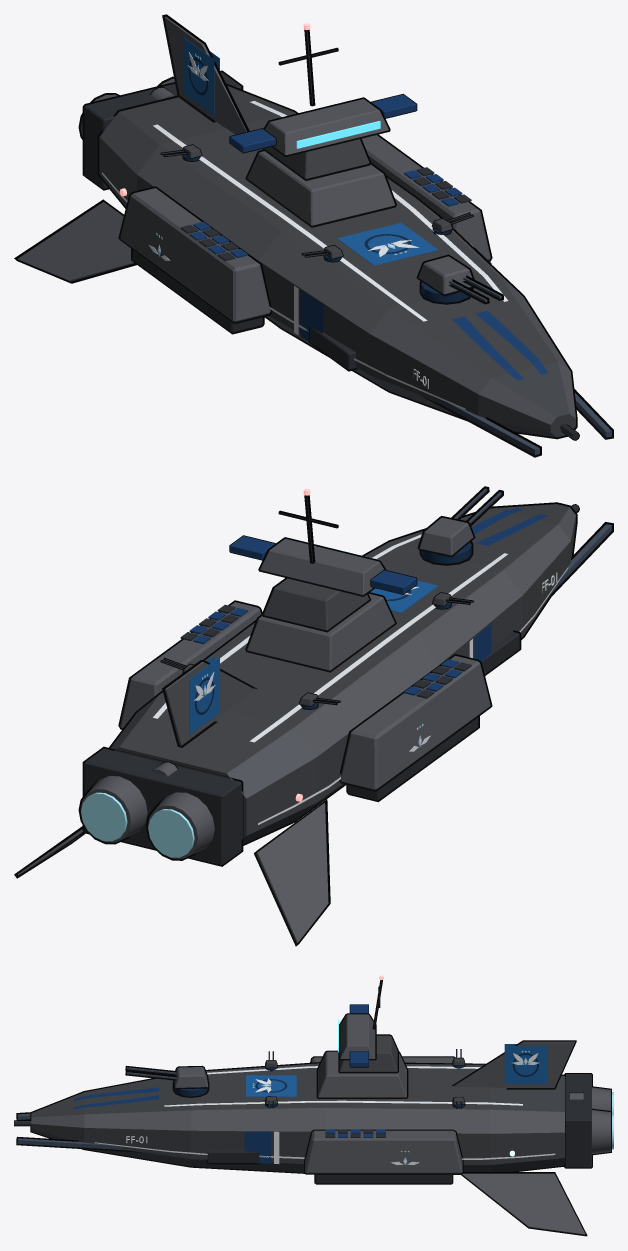
The model's file is Frigate_Warship.fbx.
The picture shows the model from 3 angles, top to bottom: view 1: azimuth 30°, elevation 25°; view 2: azimuth 150°, elevation 25°; view 3: azimuth 270°, elevation 25°; orthographic projection. The views are drawn at different scales.
Parts seen in each view (by area): view 1: Hull, Sponson-1, Bridge_A, FinV-1, Bridge_C, Sponson1, FinD, Eng_Block, Mk_EmbTop, Bridge_B, Mk_EmbFin-1, SponsonFoot-1 (+14 smaller); view 2: Hull, Sponson-1, Eng_Block, FinV-1, Bridge_A, Bridge_C, Sponson1, Bridge_B, FinD, Eng_N00, Eng_N10, Eng_G10 (+14 smaller); view 3: Hull, Sponson1, FinV1, Bridge_A, Eng_Block, FinD, Mk_EmbFin1, Bridge_C, SponsonFoot1, Bridge_B, Mk_EmbTop, Eng_N10 (+10 smaller).
Part boxes in pixels (x1,y1,x2,y2): Hull: (97, 83, 577, 439); Sponson-1: (118, 186, 272, 323); Bridge_A: (245, 150, 396, 227); FinV-1: (14, 199, 136, 283); Bridge_C: (263, 97, 390, 156); Sponson1: (362, 134, 492, 261); FinD: (162, 14, 249, 134); Eng_Block: (82, 70, 243, 190); Mk_EmbTop: (337, 222, 438, 265); Bridge_B: (262, 138, 371, 180); Mk_EmbFin-1: (183, 37, 214, 115); SponsonFoot-1: (131, 248, 264, 334); Hull: (109, 502, 577, 845); Sponson-1: (339, 654, 492, 791); Eng_Block: (82, 746, 243, 866); FinV-1: (254, 799, 330, 946); Bridge_A: (245, 592, 396, 672); Bridge_C: (258, 537, 386, 596); Sponson1: (118, 600, 262, 729); Bridge_B: (262, 578, 371, 632); FinD: (162, 660, 256, 747); Eng_N00: (145, 792, 214, 860); Eng_N10: (78, 776, 147, 844); Eng_G10: (81, 792, 127, 841); Hull: (30, 1062, 565, 1174); Sponson1: (304, 1129, 463, 1174); FinV1: (461, 1172, 587, 1236); Bridge_A: (316, 1050, 408, 1098); Eng_Block: (564, 1073, 592, 1168); FinD: (452, 1040, 576, 1089); Mk_EmbFin1: (504, 1046, 546, 1083); Bridge_C: (339, 1013, 376, 1060); SponsonFoot1: (314, 1174, 453, 1184); Bridge_B: (338, 1034, 398, 1073); Mk_EmbTop: (246, 1075, 296, 1096); Eng_N10: (592, 1108, 611, 1155).
Size of the model in its own units: 24.78 by 25.96 by 66.09.
